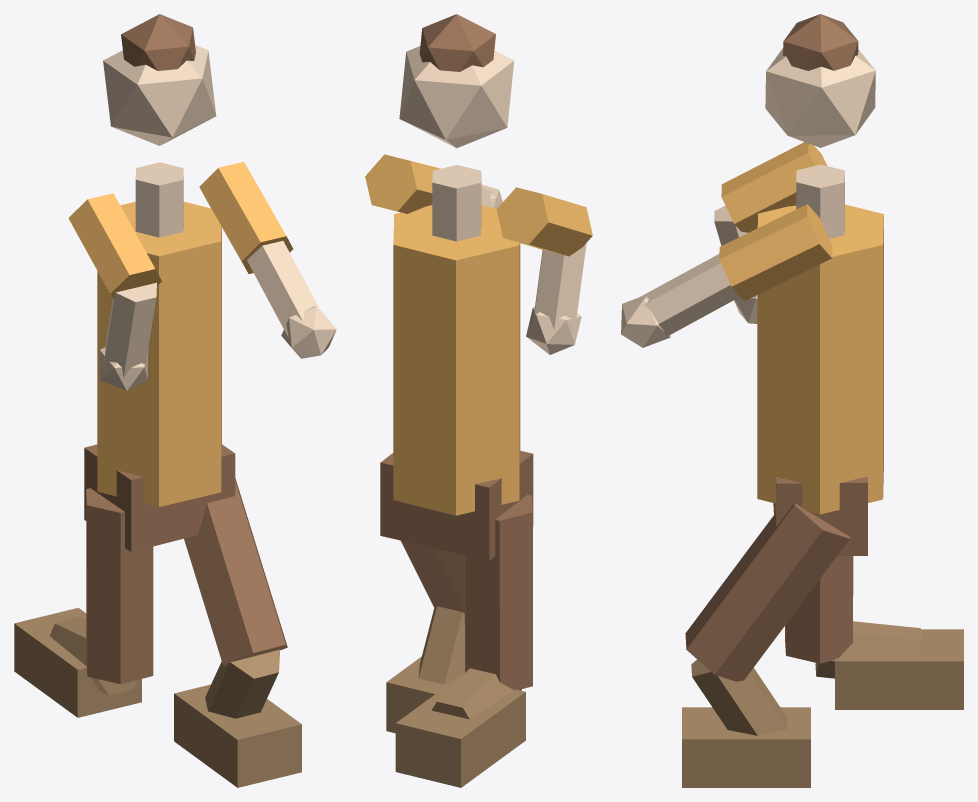
The model's file is pose_walk_06.glb.
3 renders of one model, left to right at view 1: azimuth 30°, elevation 25°; view 2: azimuth 150°, elevation 25°; view 3: azimuth 270°, elevation 25°, orthographic.
Visible parts, largest first — view 1: pose; view 2: pose; view 3: pose.
Part boxes in pixels (x1,y1,x2,y2): pose: [14, 14, 336, 787]; pose: [365, 14, 592, 787]; pose: [621, 14, 963, 787].
Bounding box in the file's own units: 0.3972 × 1.51 × 0.6376.
